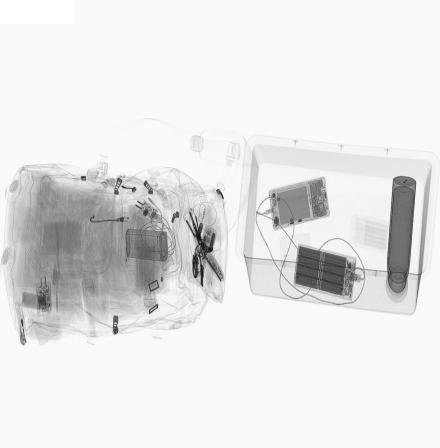Lighter: (12, 299, 27, 347)
